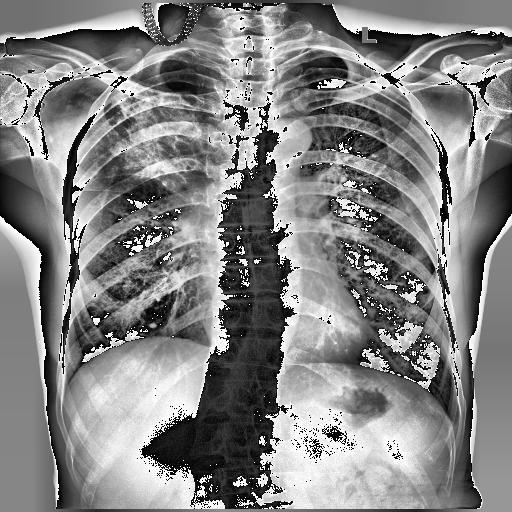0- Aortic enlargement: (261, 118, 315, 156)
13- Pulmonary fibrosis: (94, 80, 210, 202)
4- Consolidation: (94, 80, 210, 202), (113, 84, 203, 194), (116, 89, 204, 178)
7- Lung Opacity: (116, 89, 204, 178)
8- Nodule-Mass: (94, 80, 210, 202), (113, 84, 203, 194), (116, 89, 204, 178)
